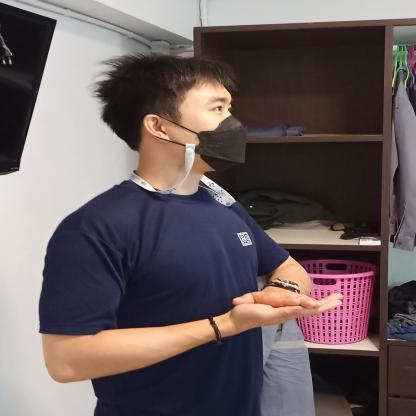Love: (151, 240, 375, 352)
